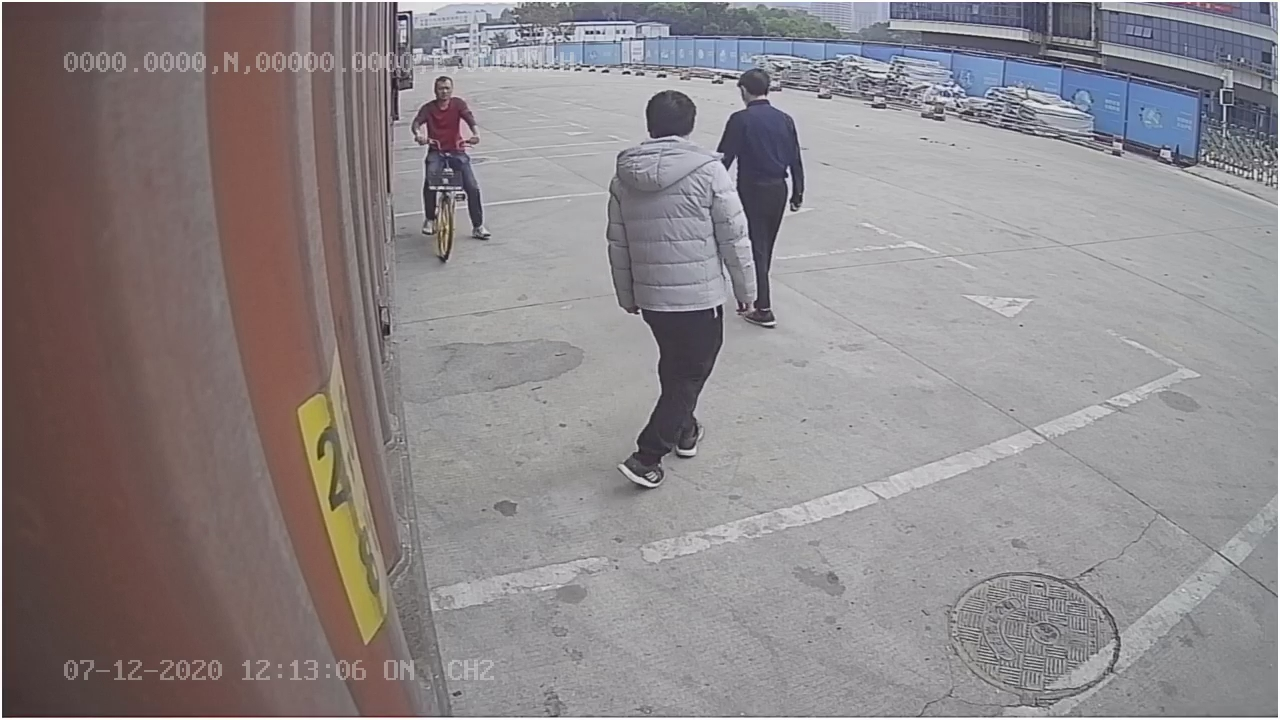person: (598, 85, 760, 490)
